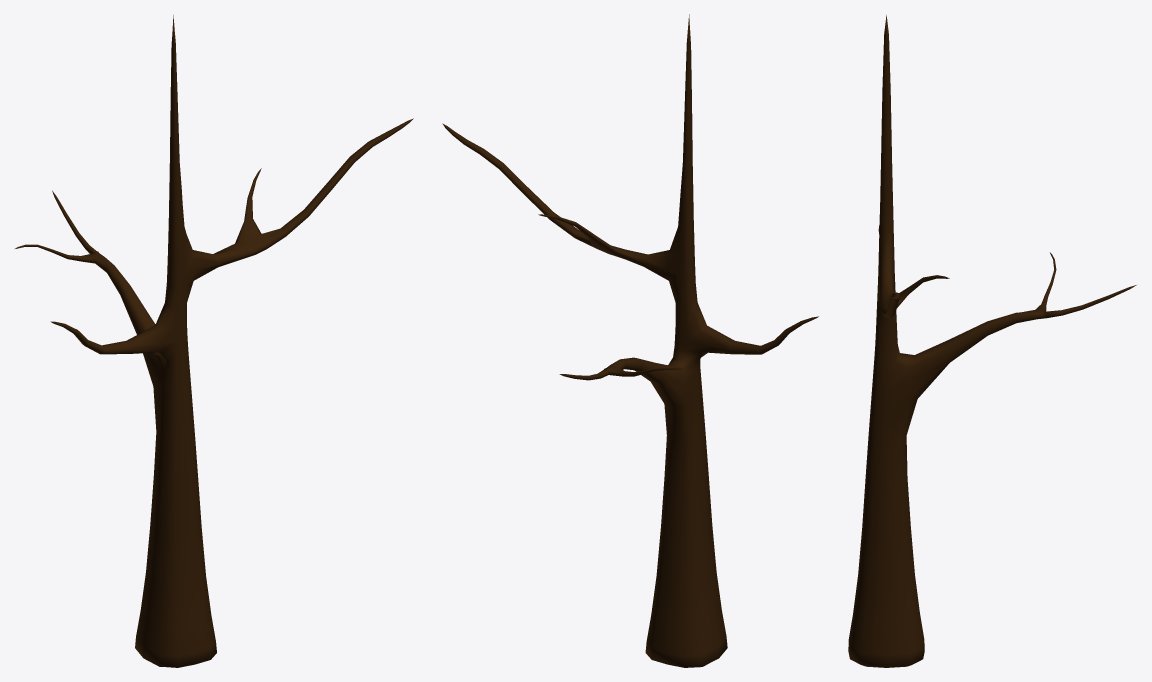
File: tree.fbx
The picture shows the model from 3 angles, left to right: view 1: azimuth 30°, elevation 25°; view 2: azimuth 150°, elevation 25°; view 3: azimuth 270°, elevation 25°; orthographic projection.
Visible parts, largest first — view 1: Cube; view 2: Cube; view 3: Cube.
Part boxes in pixels (x1,y1,x2,y2): Cube: [15, 15, 413, 667]; Cube: [442, 14, 818, 667]; Cube: [848, 15, 1136, 667].
Size of the model in its own units: 10.52 by 7.13 by 17.39.
